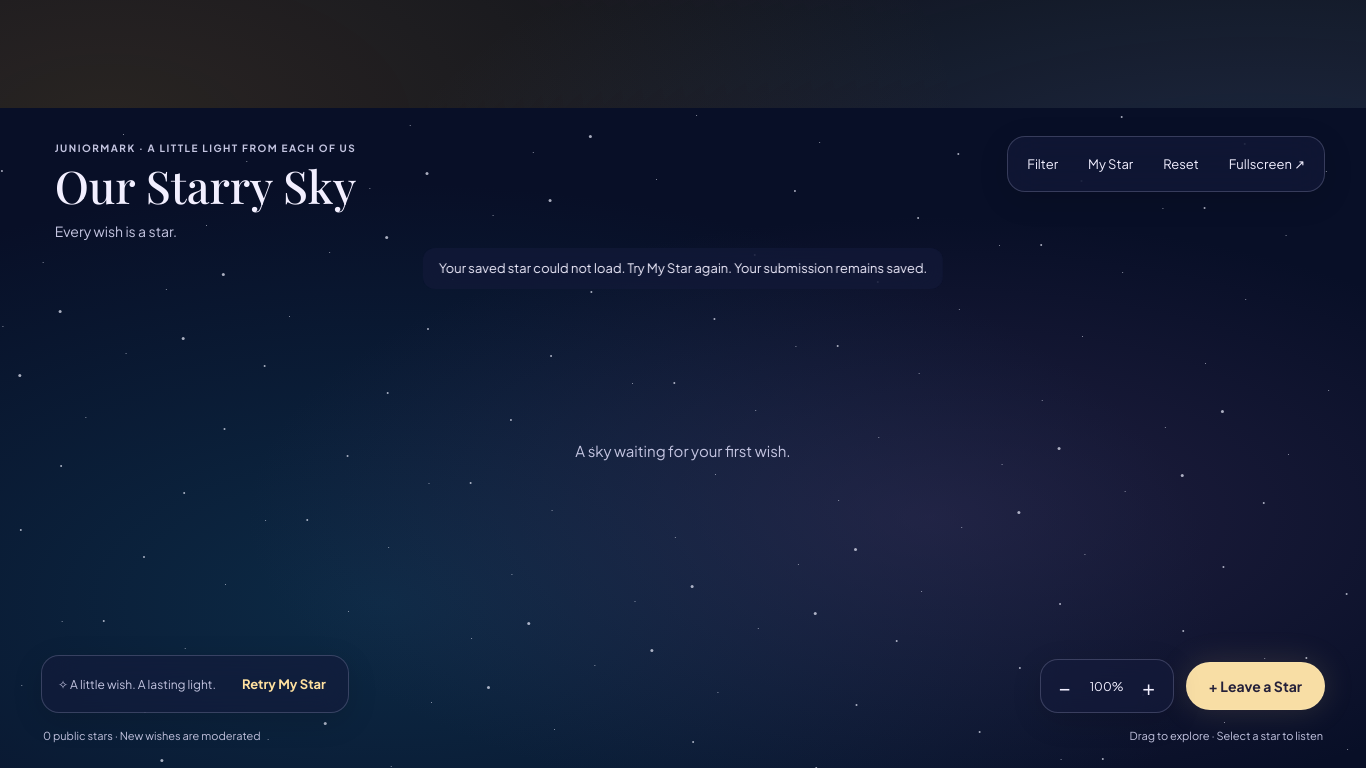
Test: allows retry after owner lookup fails and does not pretend the star is missing
The width and height of the screenshot is (1366, 768).
Click the button "Retry My Star": (284, 684) [228,662,340,706]
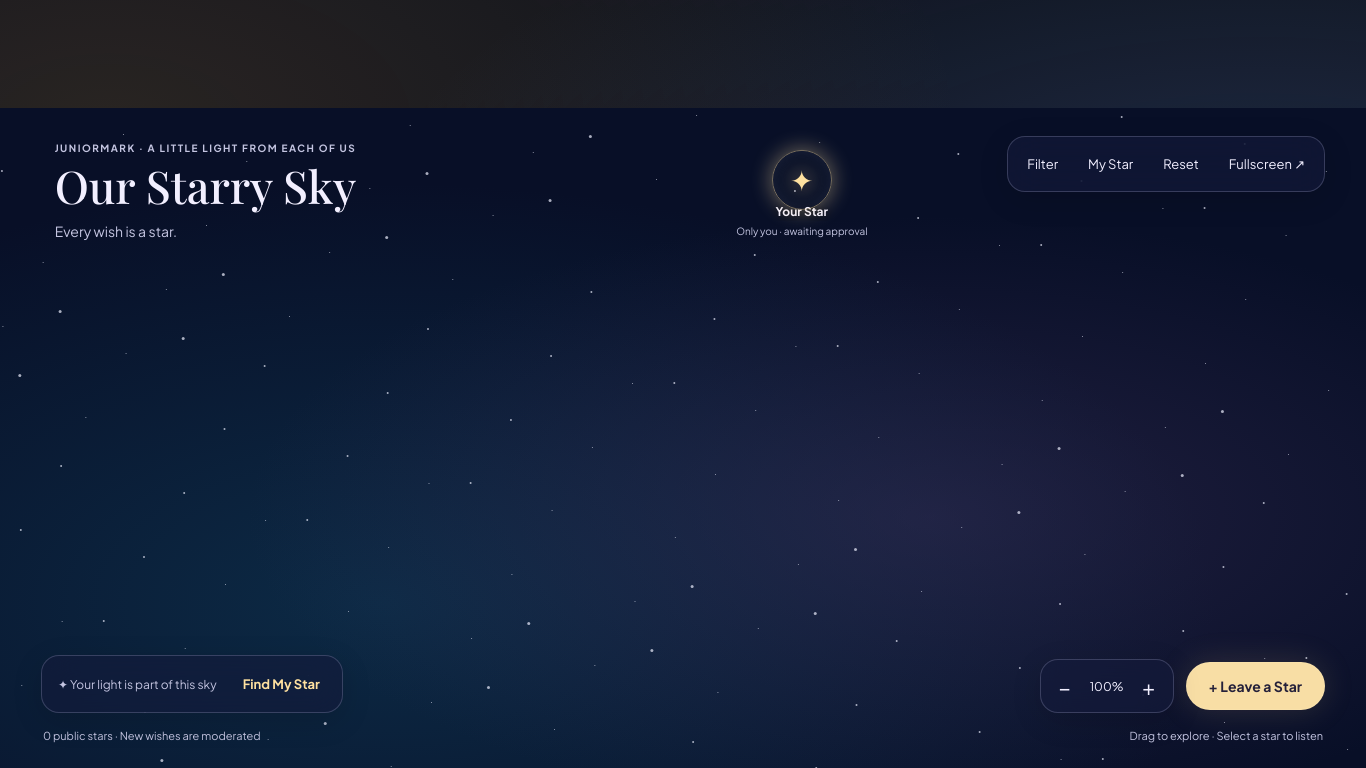
Result: the button "Find My Star" is shown at [229,662,334,706]
